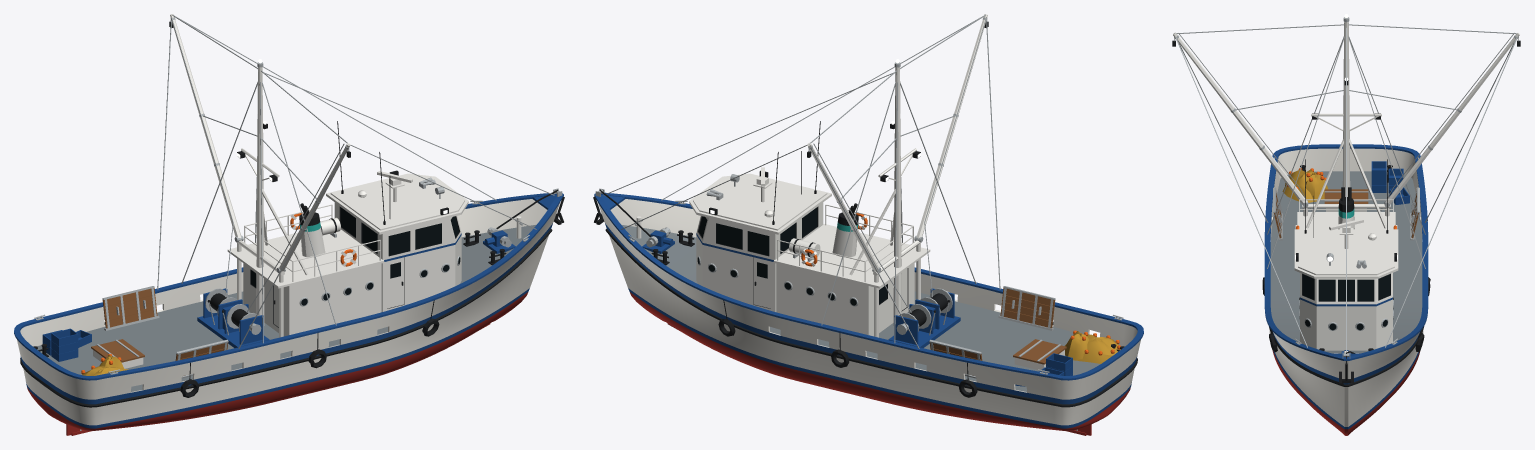
Rendered from camaronero.glb.
3 renders of one model, left to right at view 1: azimuth 30°, elevation 25°; view 2: azimuth 150°, elevation 25°; view 3: azimuth 270°, elevation 25°, orthographic. The views are drawn at different scales.
Visible parts, largest first — view 1: hull, wheelhouse, deckhouse, gear, deck, rigging, hull_trim, fittings, tangon_port, tangon_stbd; view 2: hull, wheelhouse, deckhouse, gear, rigging, hull_trim, deck, fittings, tangon_stbd, tangon_port; view 3: wheelhouse, hull, deck, rigging, hull_trim, gear, fittings, deckhouse, tangon_stbd, tangon_port.
Boxes of the visible parts, x1,y1,x2,y2 form: hull: (17,199,559,431); wheelhouse: (326,173,468,311); deckhouse: (227,203,384,336); gear: (42,17,344,378); deck: (37,224,536,391); rigging: (157,14,554,348); hull_trim: (14,193,563,407); fittings: (33,121,564,397); tangon_port: (169,14,243,242); tangon_stbd: (276,143,350,272); hull: (598,199,1140,431); wheelhouse: (689,173,831,311); deckhouse: (773,203,930,336); gear: (813,17,1120,386); rigging: (603,14,1000,348); hull_trim: (594,192,1143,407); deck: (621,224,1100,391); fittings: (593,121,1124,397); tangon_stbd: (914,14,988,242); tangon_port: (807,142,881,272); wheelhouse: (1294,229,1398,350); hull: (1269,148,1423,435); deck: (1270,171,1422,353); rigging: (1174,14,1518,352); hull_trim: (1264,144,1428,386); gear: (1179,34,1513,240); fittings: (1262,157,1430,383); deckhouse: (1297,187,1395,229); tangon_stbd: (1172,32,1308,207); tangon_port: (1384,32,1520,207).
Bounding box in the file's own units: 21.68 × 12.98 × 12.78.
